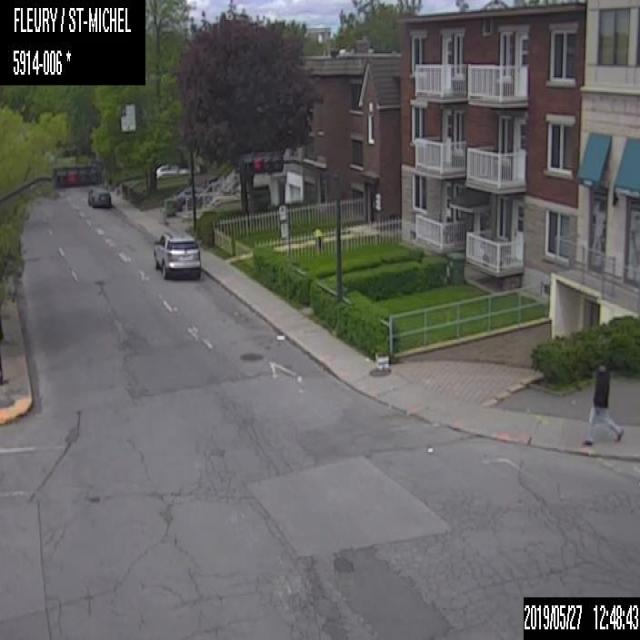pedestrian: (579, 350, 624, 446)
vehicle: (152, 232, 201, 278), (85, 184, 112, 209), (156, 162, 190, 177)
